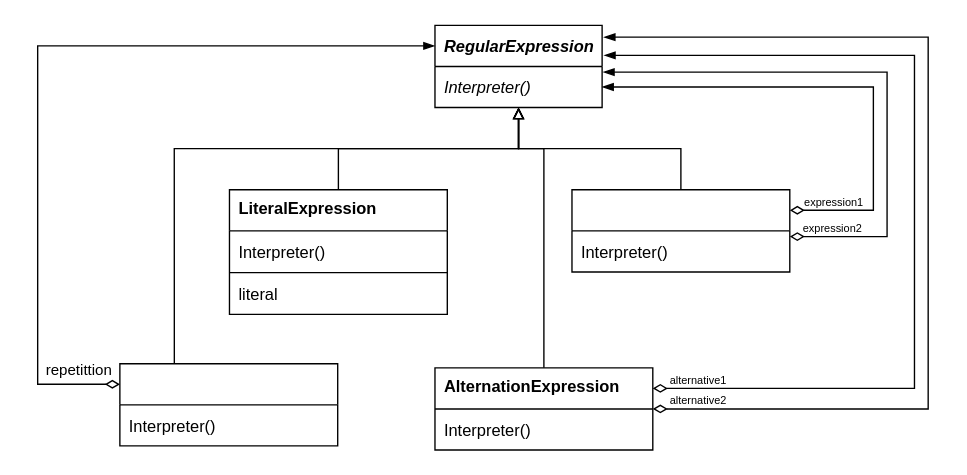
Image size: 967x475. Some labels were removed from this diagram. The box of each missing label's shape, as (x1, y1, x2, y2) in pixels:
RepetitionExpression: (119, 362, 338, 446)
SequenceExpression: (571, 188, 790, 272)
